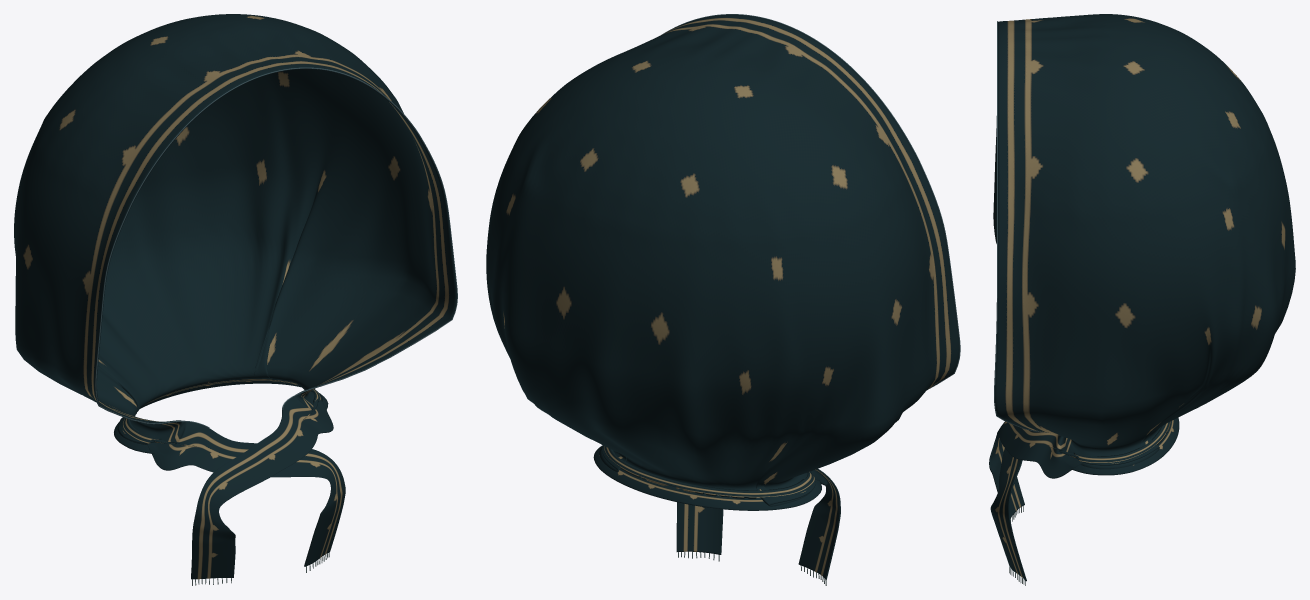
Rendered from Feminine-jersey-pashmina242-headgear.glb.
The picture shows the model from 3 angles, left to right: view 1: azimuth 30°, elevation 25°; view 2: azimuth 150°, elevation 25°; view 3: azimuth 270°, elevation 25°; orthographic projection. The views are drawn at different scales.
Parts seen in each view (by area): view 1: 226 headgear / Headwear / continuous woven pashmina239, 226 headgear / Headwear / face edge239; view 2: 226 headgear / Headwear / continuous woven pashmina239, 226 headgear / Headwear / face edge239; view 3: 226 headgear / Headwear / continuous woven pashmina239, 226 headgear / Headwear / face edge239.
Part boxes in pixels (<box>): 226 headgear / Headwear / continuous woven pashmina239: <box>14,14,456,579</box>; 226 headgear / Headwear / face edge239: <box>95,67,457,427</box>; 226 headgear / Headwear / continuous woven pashmina239: <box>486,14,959,579</box>; 226 headgear / Headwear / face edge239: <box>662,14,960,389</box>; 226 headgear / Headwear / continuous woven pashmina239: <box>989,14,1295,581</box>; 226 headgear / Headwear / face edge239: <box>993,21,1043,432</box>.
Size of the model in its own units: 1.02 by 1.35 by 0.7217.
3 materials, 1 textured.
